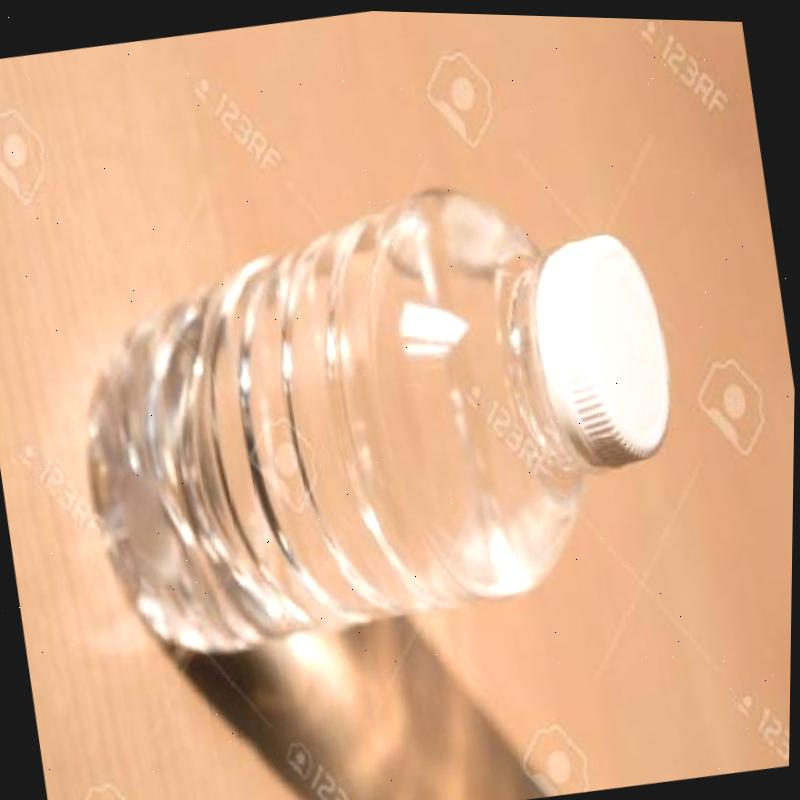botella: (52, 139, 707, 673)
